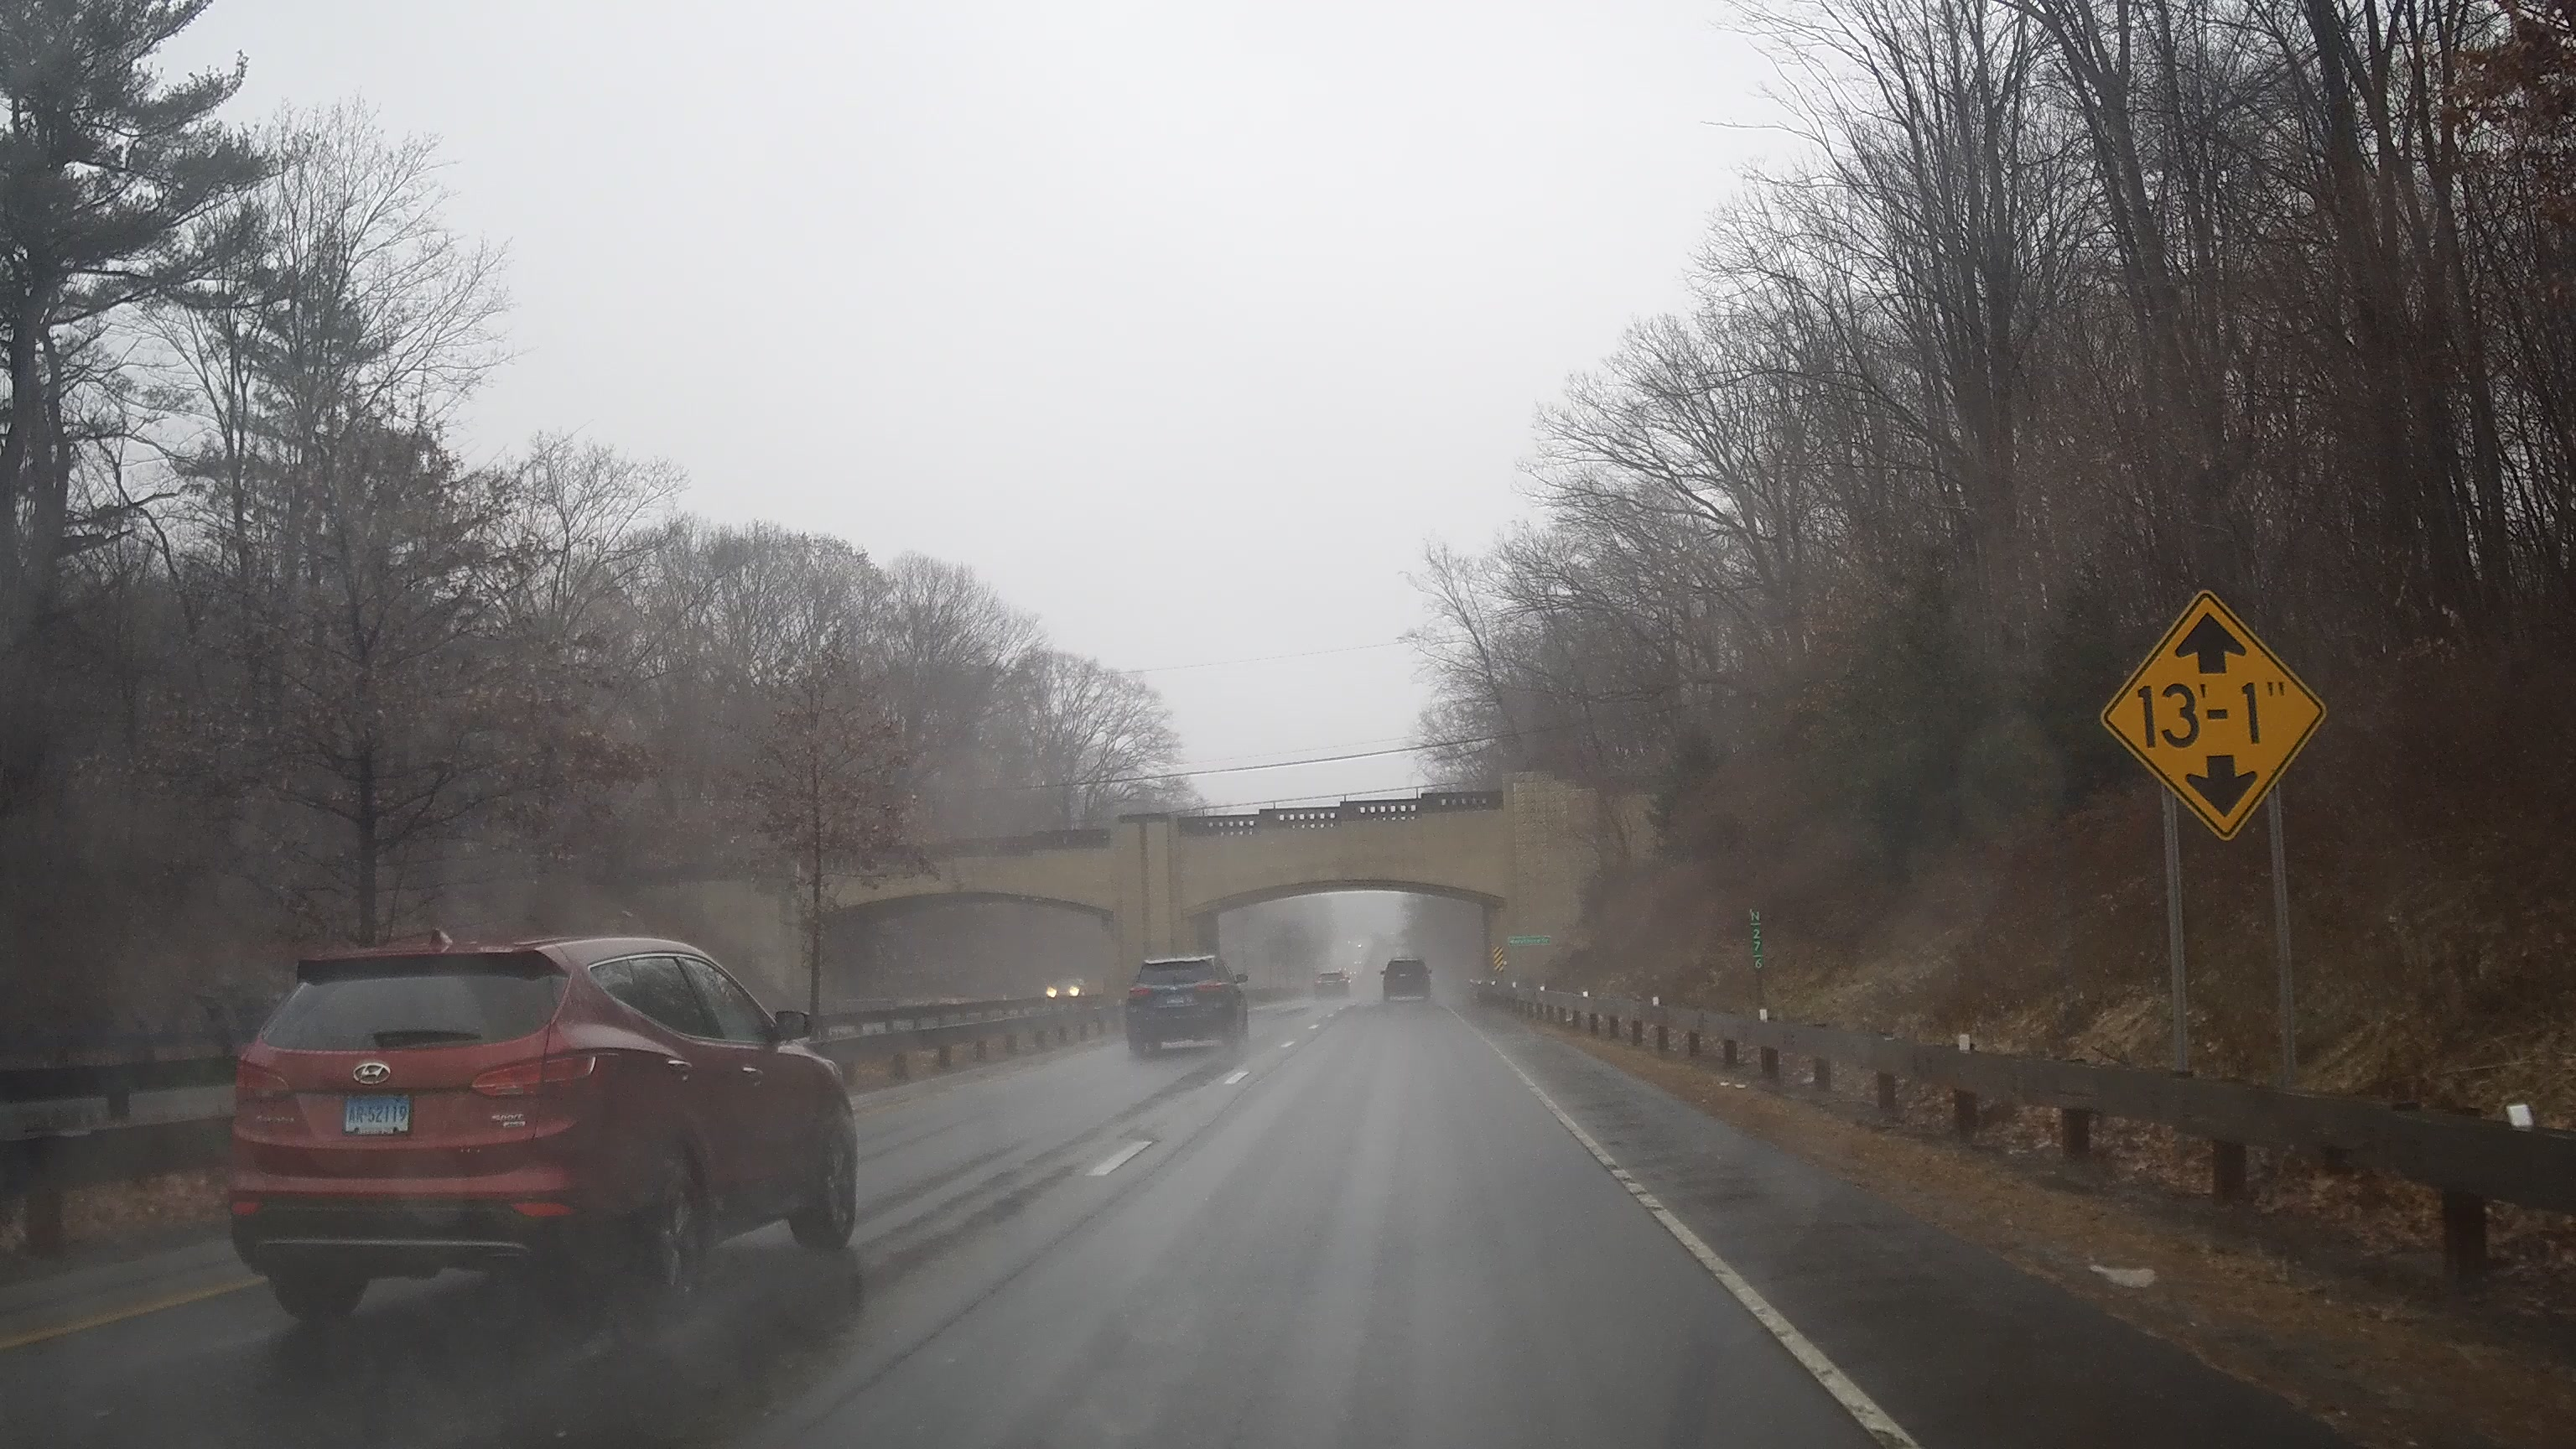low-clearance-sign: (2100, 589, 2328, 840)
